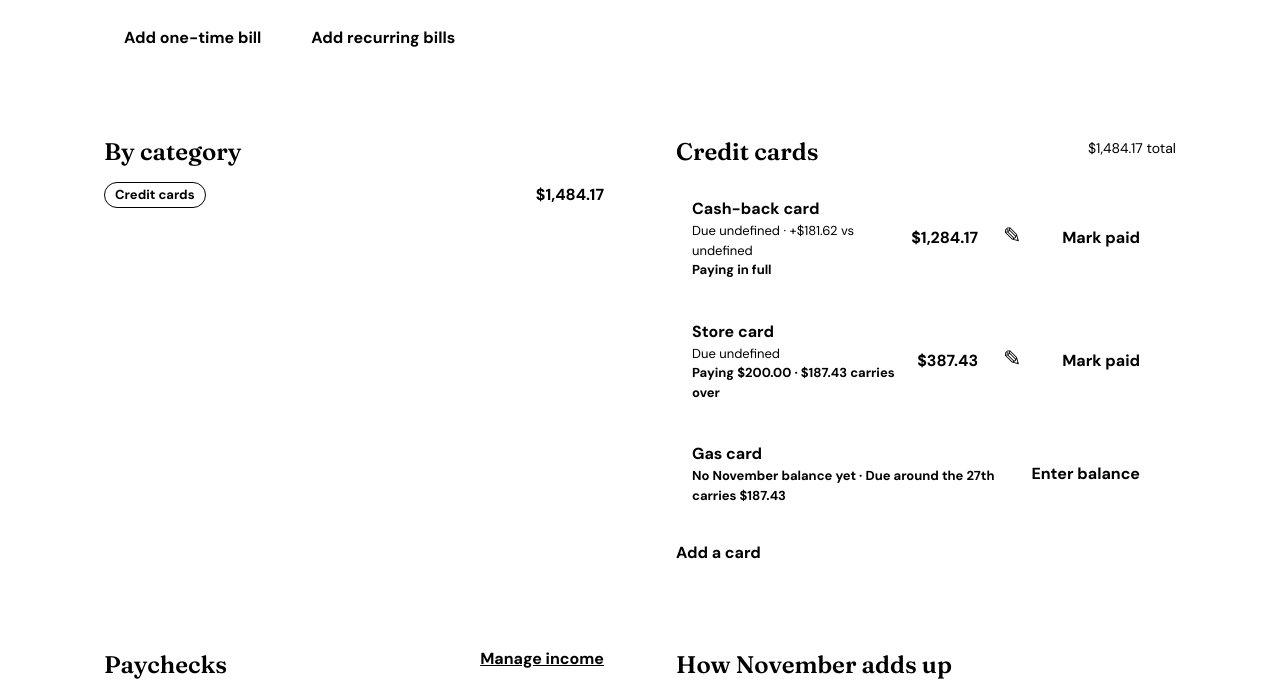
it: P2-07 paying a card › says when paying fails
The image size is (1280, 689).
(page scrolled)
Click the button with aria-label "Mark Store card paid".
click(1101, 361)  # box [1042,337,1160,385]
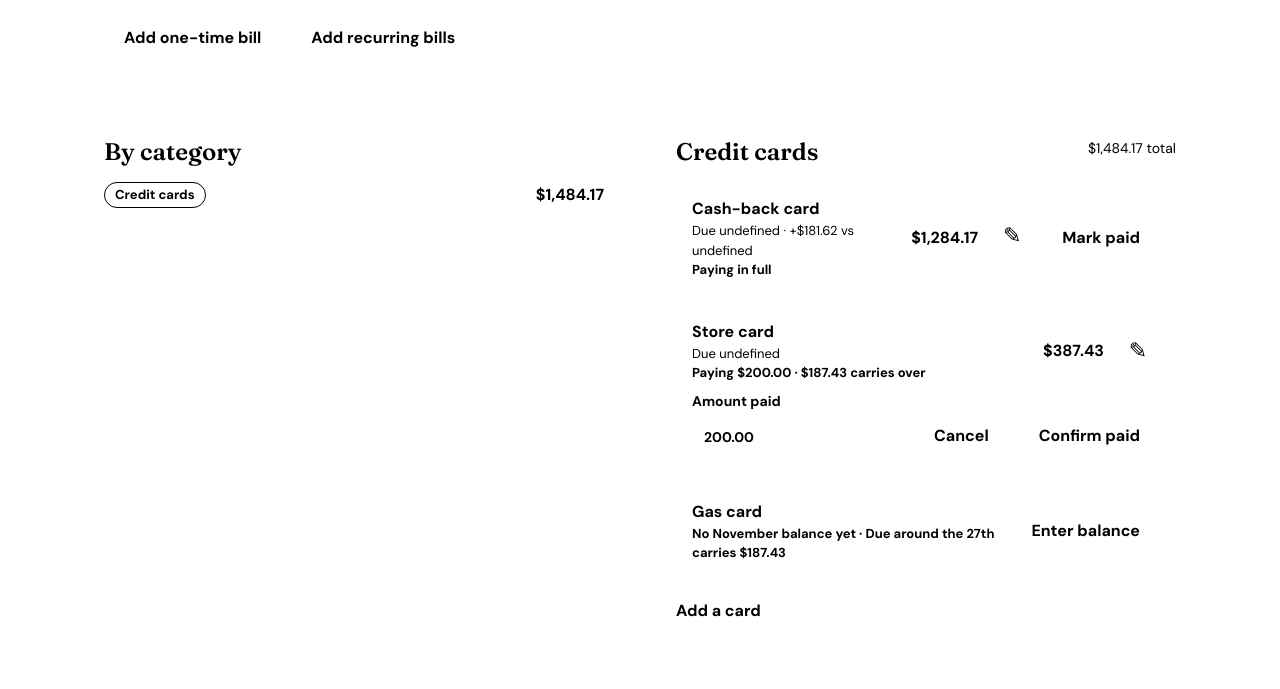
Click the button "Confirm paid".
click(1089, 436)  # box [1019,412,1160,460]
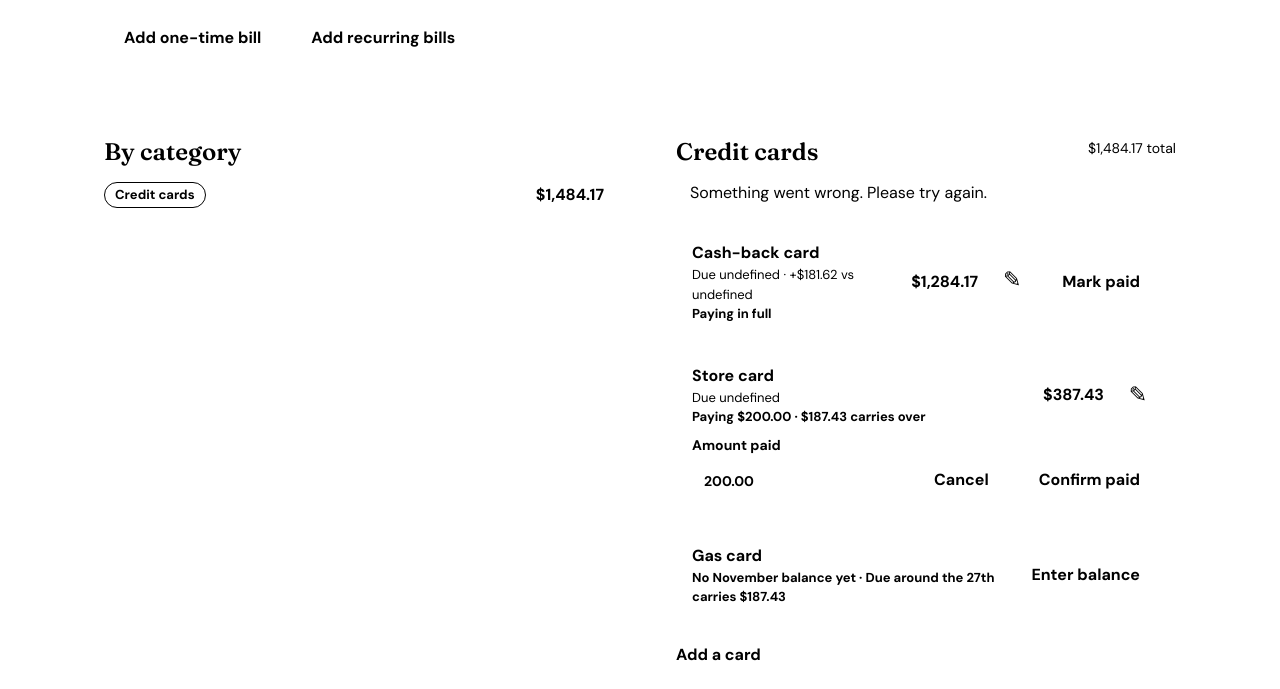
Expected: the message "Something went wrong. Please try again." is shown, [690,182,987,203]
